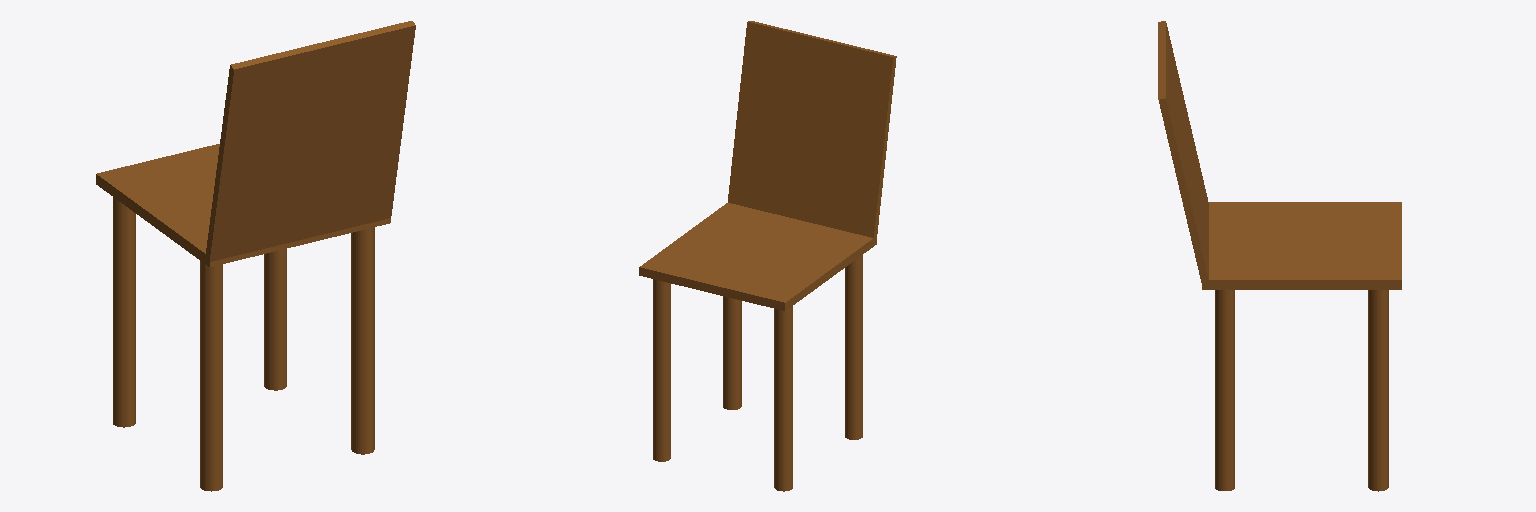
The robot description file, URDF, robot "chair":
<?xml version="1.0"?>
<robot name="chair">

  <!-- Base link at the top of the front right leg -->
  <link name="chair_link">
    <visual>
      <geometry>
        <sphere radius="0.0007415730337078652"/>
      </geometry>
      <origin xyz="0.0 0.0 0.0" rpy="0 0 0"/>
      <material name="invisible">
        <color rgba="0 0 0 0"/>
      </material>
    </visual>
    <collision name="chair">
      <geometry>
        <sphere radius="0.0007415730337078652"/>
      </geometry>
      <origin xyz="0.0 0.0 0.0" rpy="0 0 0"/>
    </collision>
    <inertial>
      <mass value="0.000407813676913453"/>
      <inertia ixx="2.2426920548352496e-07" ixy="0.0" ixz="0.0" iyy="2.2426920548352496e-07" iyz="0.0" izz="2.2426920548352496e-07"/>
    </inertial>
  </link>

  <!-- Base link at the top of the front right leg -->
  <link name="base">
    <visual>
      <geometry>
        <sphere radius="0.0007415730337078652"/>
      </geometry>
      <origin xyz="0.0 0.0 0.0" rpy="0 0 0"/>
      <material name="invisible">
        <color rgba="0 0 0 0"/>
      </material>
    </visual>
    <inertial>
      <mass value="0.000407813676913453"/>
      <inertia ixx="2.2426920548352496e-07" ixy="0.0" ixz="0.0" iyy="2.2426920548352496e-07" iyz="0.0" izz="2.2426920548352496e-07"/>
    </inertial>
  </link>

  <!-- Seat -->
  <link name="seat">
    <visual>
      <geometry>
        <box size="0.2669662921348315 0.28921348314606743 0.014831460674157304"/>
      </geometry>
      <origin xyz="0.0 0.0 0.0" rpy="0 0 0"/>
      <material name="wood">
        <color rgba="0.6 0.4 0.2 1.0"/>
      </material>
    </visual>
    <collision>
      <geometry>
        <box size="0.2669662921348315 0.28921348314606743 0.014831460674157304"/>
      </geometry>
      <origin xyz="0.0 0.0 0.0" rpy="0 0 0"/>
    </collision>
    <inertial>
      <mass value="0.407813676913453"/>
      <inertia ixx="0.0026912304658022997" ixy="0.0" ixz="0.0" iyy="0.0022426920548352497" iyz="0.0" izz="0.0044853841096704995"/>
    </inertial>
  </link>

  <!-- Front left leg -->
  <link name="front_left_leg">
    <visual>
      <geometry>
        <cylinder radius="0.014831460674157304" length="0.3262921348314607"/>
      </geometry>
      <origin xyz="0.0 0.0 0.0" rpy="0 0 0"/>
      <material name="wood">
        <color rgba="0.6 0.4 0.2 1.0"/>
      </material>
    </visual>
    <collision>
      <geometry>
        <cylinder radius="0.014831460674157304" length="0.3262921348314607"/>
      </geometry>
      <origin xyz="0.0 0.0 0.0" rpy="0 0 0"/>
    </collision>
    <inertial>
      <mass value="0.00407813676913453"/>
      <inertia ixx="0.00022426920548352497" ixy="0.0" ixz="0.0" iyy="0.00022426920548352497" iyz="0.0" izz="2.24269205483525e-05"/>
    </inertial>
  </link>

  <!-- Front right leg -->
  <link name="front_right_leg">
    <visual>
      <geometry>
        <cylinder radius="0.014831460674157304" length="0.3262921348314607"/>
      </geometry>
      <origin xyz="0.0 0.0 0.0" rpy="0 0 0"/>
      <material name="wood">
        <color rgba="0.6 0.4 0.2 1.0"/>
      </material>
    </visual>
    <collision>
      <geometry>
        <cylinder radius="0.014831460674157304" length="0.3262921348314607"/>
      </geometry>
      <origin xyz="0.0 0.0 0.0" rpy="0 0 0"/>
    </collision>
    <inertial>
      <mass value="0.00407813676913453"/>
      <inertia ixx="0.00022426920548352497" ixy="0.0" ixz="0.0" iyy="0.00022426920548352497" iyz="0.0" izz="2.24269205483525e-05"/>
    </inertial>
  </link>

  <!-- Back left leg -->
  <link name="back_left_leg">
    <visual>
      <geometry>
        <cylinder radius="0.014831460674157304" length="0.3262921348314607"/>
      </geometry>
      <origin xyz="0.0 0.0 0.0" rpy="0 0 0"/>
      <material name="wood">
        <color rgba="0.6 0.4 0.2 1.0"/>
      </material>
    </visual>
    <collision>
      <geometry>
        <cylinder radius="0.014831460674157304" length="0.3262921348314607"/>
      </geometry>
      <origin xyz="0.0 0.0 0.0" rpy="0 0 0"/>
    </collision>
    <inertial>
      <mass value="0.00407813676913453"/>
      <inertia ixx="0.00022426920548352497" ixy="0.0" ixz="0.0" iyy="0.00022426920548352497" iyz="0.0" izz="2.24269205483525e-05"/>
    </inertial>
  </link>

  <!-- Back right leg -->
  <link name="back_right_leg">
    <visual>
      <geometry>
        <cylinder radius="0.014831460674157304" length="0.3262921348314607"/>
      </geometry>
      <origin xyz="0.0 0.0 0.0" rpy="0 0 0"/>
      <material name="wood">
        <color rgba="0.6 0.4 0.2 1.0"/>
      </material>
    </visual>
    <collision>
      <geometry>
        <cylinder radius="0.014831460674157304" length="0.3262921348314607"/>
      </geometry>
      <origin xyz="0.0 0.0 0.0" rpy="0 0 0"/>
    </collision>
    <inertial>
      <mass value="0.00407813676913453"/>
      <inertia ixx="0.00022426920548352497" ixy="0.0" ixz="0.0" iyy="0.00022426920548352497" iyz="0.0" izz="2.24269205483525e-05"/>
    </inertial>
  </link>

  <!-- Backrest (tilted back support) -->
  <link name="backrest">
    <visual>
      <geometry>
        <box size="0.2669662921348315 0.011123595505617978 0.30404494382022473"/>
      </geometry>
      <origin xyz="0.0 0.0 0.0" rpy="0 0 0"/>
      <material name="wood">
        <color rgba="0.6 0.4 0.2 1.0"/>
      </material>
    </visual>
    <collision>
      <geometry>
        <box size="0.2669662921348315 0.011123595505617978 0.30404494382022473"/>
      </geometry>
      <origin xyz="0.0 0.0 0.0" rpy="0 0 0"/>
    </collision>
    <inertial>
      <mass value="0.2039068384567265"/>
      <inertia ixx="0.0026912304658022997" ixy="0.0" ixz="0.0" iyy="0.0044853841096704995" iyz="0.0" izz="0.0022426920548352497"/>
    </inertial>
  </link>

  <!-- Joint connecting base_link to seat -->

  <joint name="baselink_to_base" type="fixed">
    <parent link="chair_link"/>
    <child link="base"/>
    <origin xyz="0.0 0.0 0.0" rpy="0 0 0"/>
  </joint>

  <joint name="base_to_seat" type="fixed">
    <parent link="base"/>
    <child link="seat"/>
    <origin xyz="0.11865168539325843 -0.13348314606741574 0.0" rpy="0 0 0"/>
  </joint>

  <!-- Joint connecting front left leg to seat -->
  <joint name="seat_to_front_left_leg" type="fixed">
    <parent link="seat"/>
    <child link="front_left_leg"/>
    <origin xyz="0.11123595505617978 0.11123595505617978 -0.170561797752809" rpy="0 0 0"/>
  </joint>

  <!-- Joint connecting front right leg to seat -->
  <joint name="seat_to_front_right_leg" type="fixed">
    <parent link="seat"/>
    <child link="front_right_leg"/>
    <origin xyz="0.11123595505617978 -0.11123595505617978 -0.170561797752809" rpy="0 0 0"/>
  </joint>

  <!-- Joint connecting back left leg to seat -->
  <joint name="seat_to_back_left_leg" type="fixed">
    <parent link="seat"/>
    <child link="back_left_leg"/>
    <origin xyz="-0.11123595505617978 0.11123595505617978 -0.170561797752809" rpy="0 0 0"/>
  </joint>

  <!-- Joint connecting back right leg to seat -->
  <joint name="seat_to_back_right_leg" type="fixed">
    <parent link="seat"/>
    <child link="back_right_leg"/>
    <origin xyz="-0.11123595505617978 -0.11123595505617978 -0.170561797752809" rpy="0 0 0"/>
  </joint>

  <!-- Joint connecting backrest to seat (tilted back 15 degrees) -->
  <joint name="seat_to_backrest" type="fixed">
    <parent link="seat"/>
    <child link="backrest"/>
    <origin xyz="0.0 -0.170561797752809 0.14831460674157304" rpy="0.21 0 0"/>
  </joint>

</robot>

--- Facts derived from the render (not from the file) ---
3 views of the same robot in one strip: view 1: azimuth 30°, elevation 25°; view 2: azimuth 150°, elevation 25°; view 3: azimuth 270°, elevation 25° (orthographic).
Robot: chair — 8 links, 7 joints (7 fixed); root link chair_link; default pose: all joints at 0.
Visible links, largest first — view 1: backrest, seat, front_right_leg, back_right_leg, back_left_leg, front_left_leg; view 2: backrest, seat, back_left_leg, front_left_leg, back_right_leg, front_right_leg; view 3: seat, backrest, front_left_leg, front_right_leg.
Link boxes in pixels (x1=…): backrest: x1=205, y1=21, x2=415, y2=262; seat: x1=96, y1=144, x2=390, y2=266; front_right_leg: x1=351, y1=227, x2=374, y2=454; back_right_leg: x1=200, y1=261, x2=222, y2=491; back_left_leg: x1=113, y1=197, x2=135, y2=427; front_left_leg: x1=264, y1=249, x2=286, y2=390; backrest: x1=728, y1=21, x2=896, y2=241; seat: x1=639, y1=203, x2=876, y2=310; back_left_leg: x1=774, y1=306, x2=792, y2=491; front_left_leg: x1=653, y1=279, x2=670, y2=461; back_right_leg: x1=845, y1=255, x2=862, y2=439; front_right_leg: x1=723, y1=296, x2=741, y2=409; seat: x1=1202, y1=202, x2=1401, y2=289; backrest: x1=1158, y1=21, x2=1208, y2=284; front_left_leg: x1=1368, y1=290, x2=1388, y2=491; front_right_leg: x1=1215, y1=290, x2=1234, y2=490.
Size in the robot's own frame: 0.267 by 0.3523 by 0.6319 metres.
Geometry: primitives only (box / cylinder / sphere), no mesh files.
